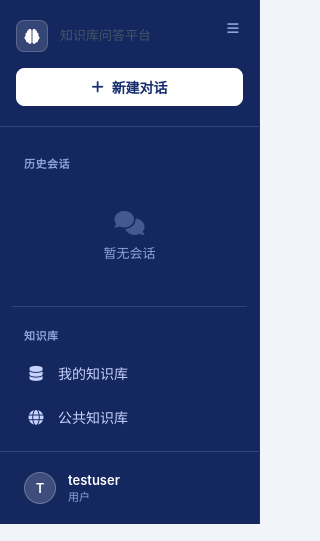
Test: Sidebar 会话列表 › 用户菜单显示用户名和角色
What coordinates should you click on to do the following:
click the text with class "user-avatar"
I would click on:
 (40, 488)
Its box is [24, 472, 56, 504].
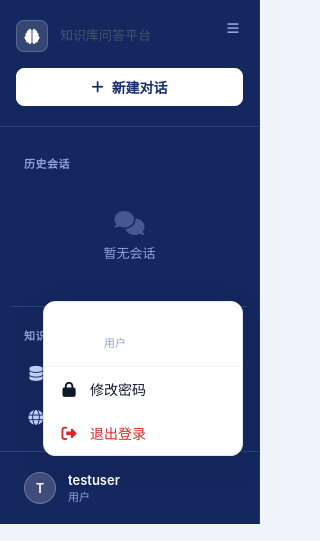
expect the element with class "user-menu-card" shows "用户": met, box [104, 336, 126, 350]
expect the element with class "user-menu-card" shows "修改密码": met, box [44, 367, 242, 411]
expect the element with class "user-menu-card" shows "退出登录": met, box [44, 411, 242, 455]
